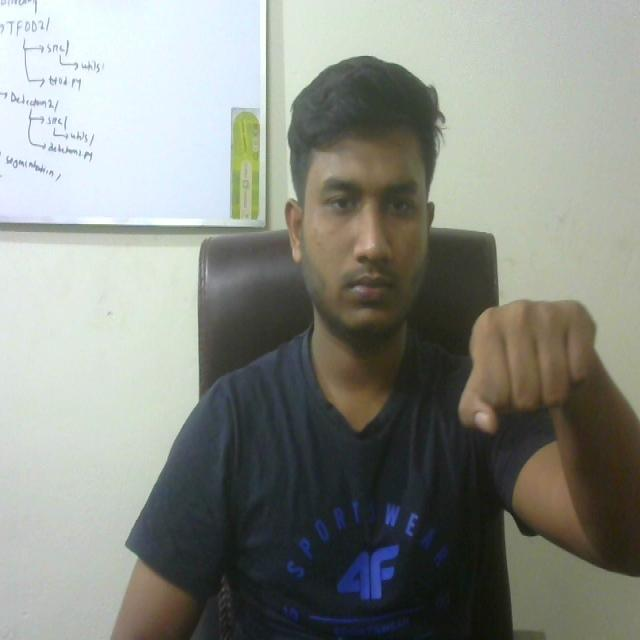Yes: (438, 276, 620, 461)
